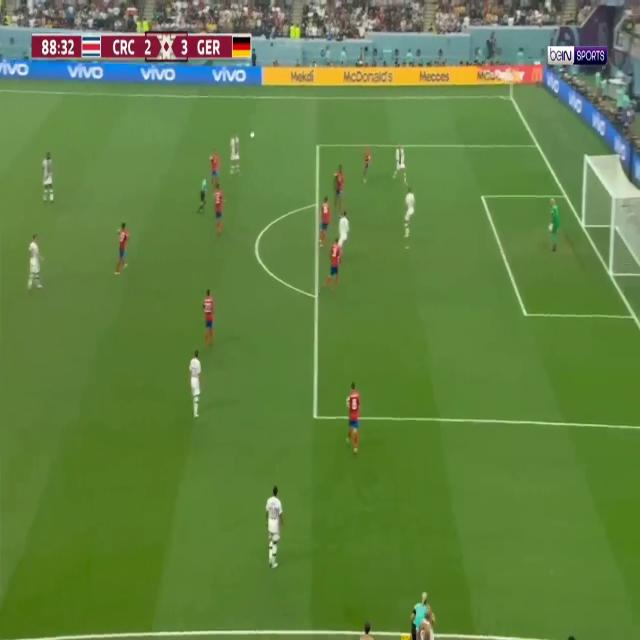ball: (250, 131, 255, 141)
team1: (345, 381, 362, 456), (114, 215, 131, 279), (201, 287, 216, 347), (325, 238, 342, 290), (212, 180, 225, 238), (317, 195, 331, 248), (332, 162, 347, 211), (208, 148, 222, 192), (362, 146, 373, 186)
team2: (264, 484, 285, 570), (188, 348, 205, 425), (26, 230, 46, 294), (40, 149, 55, 208), (393, 140, 408, 187), (403, 187, 416, 240), (228, 131, 242, 178), (337, 210, 351, 253)
